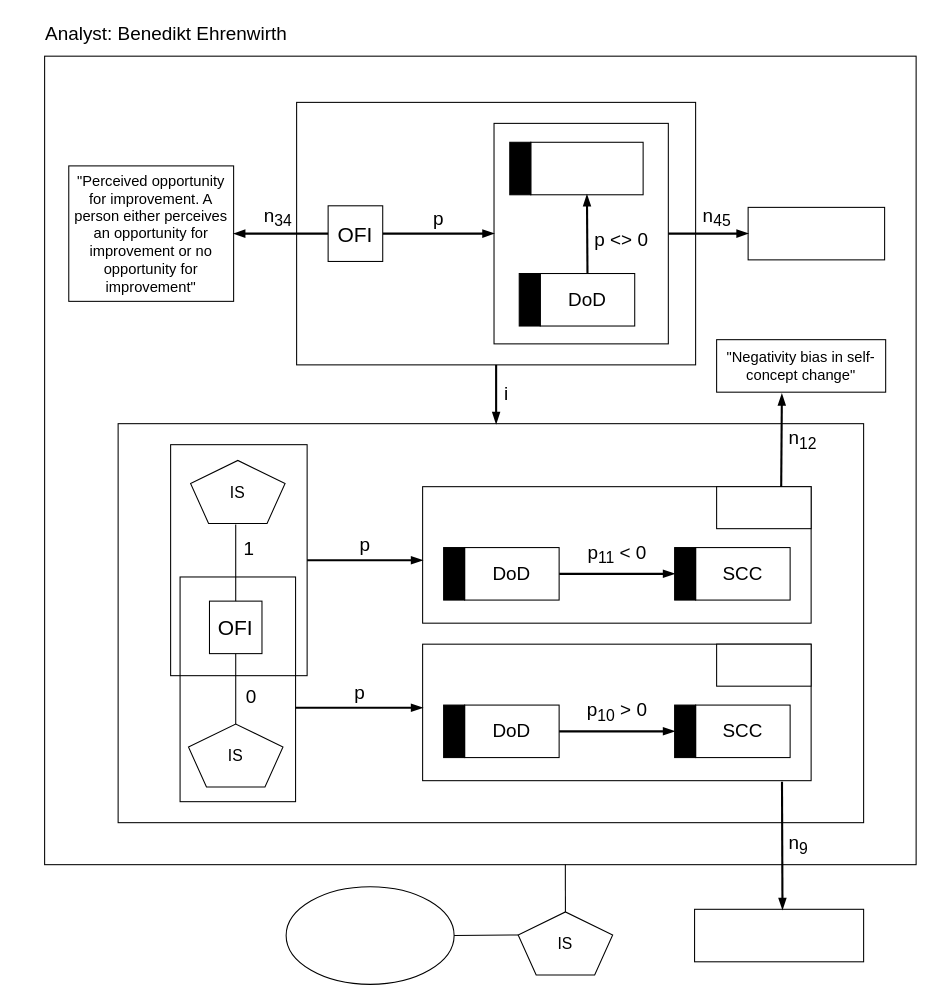
This 934x1003 diagram has some shape labels left out. Each missing label, with the centre of its shape:
"Asymmetric self-concept change": point 816,233
"Positivity bias in self-concept change": point 779,935
ABS_SCC: point 586,168
Brotzeller & Gollwitzer (2025): point 369,935
NB: point 763,507
PB: point 763,664
